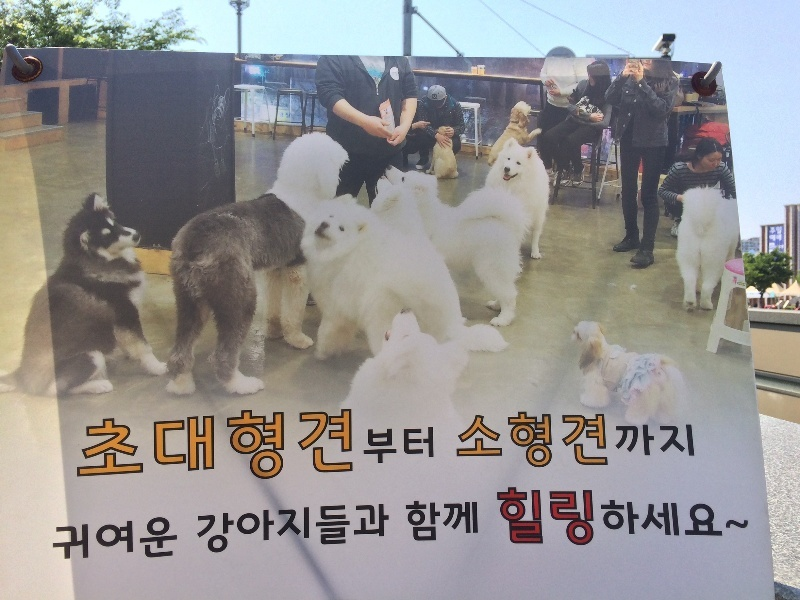text: (97, 405, 112, 489), (113, 405, 128, 489), (129, 405, 144, 489), (145, 405, 160, 489), (161, 405, 176, 489), (177, 405, 192, 489), (193, 405, 208, 489), (209, 405, 224, 489), (225, 405, 240, 489), (241, 405, 256, 489), (257, 405, 272, 489), (273, 405, 288, 489), (289, 405, 304, 489), (305, 405, 320, 489), (321, 405, 336, 489), (337, 405, 352, 489), (497, 486, 512, 549), (513, 486, 528, 549), (529, 486, 544, 549), (545, 486, 560, 549), (561, 486, 576, 549), (577, 486, 592, 549), (85, 405, 96, 489), (465, 411, 480, 471), (481, 411, 496, 471), (497, 411, 512, 471), (513, 411, 528, 471), (529, 411, 544, 471), (545, 411, 560, 471), (561, 411, 576, 471), (577, 411, 592, 471), (593, 411, 608, 471), (209, 502, 224, 557), (225, 502, 240, 557), (241, 502, 256, 557), (257, 502, 272, 557), (273, 502, 288, 557), (289, 502, 304, 557), (305, 502, 320, 557), (321, 502, 336, 557), (337, 502, 352, 557), (353, 502, 368, 557), (369, 502, 384, 557), (65, 516, 80, 563), (81, 516, 96, 563), (97, 516, 112, 563), (113, 516, 128, 563), (129, 516, 144, 563), (145, 516, 160, 563), (161, 516, 176, 563), (196, 502, 208, 557), (417, 500, 432, 544), (433, 500, 448, 544), (449, 500, 464, 544), (609, 499, 624, 541), (625, 499, 640, 541), (641, 499, 656, 541), (657, 499, 672, 541), (673, 499, 688, 541), (689, 499, 704, 541), (705, 499, 720, 541), (721, 499, 736, 541), (465, 500, 479, 544), (369, 426, 384, 467), (385, 426, 400, 467), (401, 426, 416, 467), (417, 426, 432, 467), (403, 500, 416, 544), (52, 516, 64, 563), (737, 499, 750, 541), (625, 424, 640, 460), (641, 424, 656, 460), (657, 424, 672, 460), (673, 424, 688, 460), (600, 499, 608, 541), (615, 424, 624, 460), (689, 424, 697, 460), (385, 502, 390, 557), (769, 226, 784, 243), (593, 486, 596, 549), (365, 426, 368, 467), (462, 411, 464, 471), (177, 516, 179, 563), (353, 405, 354, 489), (433, 426, 435, 467), (495, 486, 496, 549), (609, 411, 610, 471)
